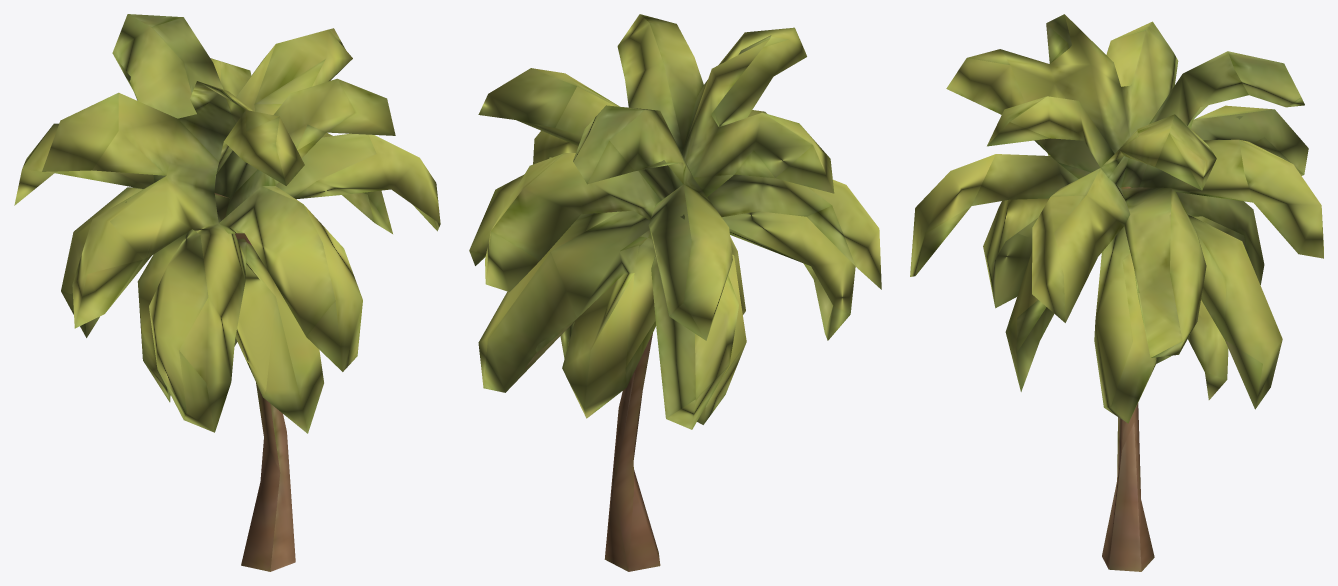
The model's file is palm_c_far.glb.
3 renders of one model, left to right at view 1: azimuth 30°, elevation 25°; view 2: azimuth 150°, elevation 25°; view 3: azimuth 270°, elevation 25°, orthographic. The views are drawn at different scales.
Visible parts, largest first — view 1: body; view 2: body; view 3: body.
Boxes of the visible parts, x1,y1,x2,y2 form: body: (14,14,440,571); body: (469,14,881,571); body: (910,14,1323,571).
Bounding box in the file's own units: 3.2 × 4.5 × 3.38.
Materials: 2 (2 with a texture image).
